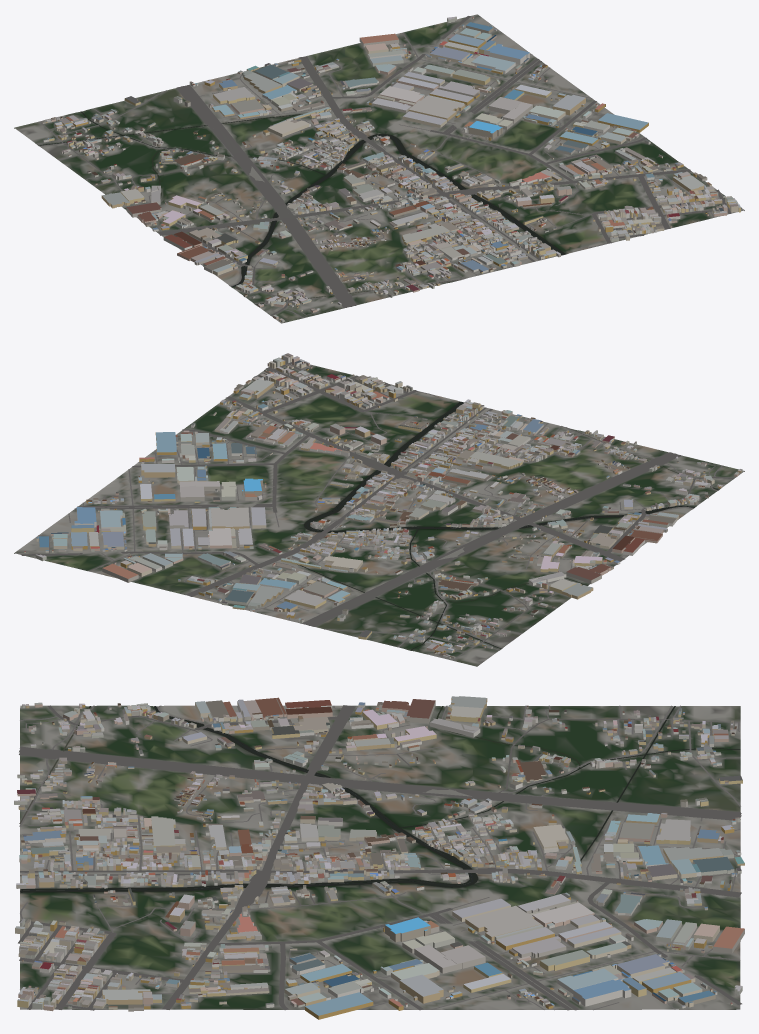
3 views of the same model, one above another, from view 1: azimuth 30°, elevation 25°; view 2: azimuth 150°, elevation 25°; view 3: azimuth 270°, elevation 25° (orthographic). The views are drawn at different scales.
Visible parts, largest first — view 1: ground, buildings, roads, water; view 2: ground, buildings, roads, water; view 3: ground, buildings, roads, water.
Part boxes in pixels (x1=…): ground: x1=14, y1=14, x2=744, y2=323; buildings: x1=41, y1=16, x2=740, y2=322; roads: x1=36, y1=16, x2=741, y2=317; water: x1=38, y1=111, x2=565, y2=304; ground: x1=14, y1=358, x2=744, y2=666; buildings: x1=24, y1=353, x2=742, y2=658; roads: x1=21, y1=362, x2=734, y2=660; water: x1=297, y1=401, x2=718, y2=650; ground: x1=20, y1=705, x2=740, y2=1009; buildings: x1=14, y1=696, x2=744, y2=1019; roads: x1=18, y1=705, x2=741, y2=1010; water: x1=19, y1=706, x2=740, y2=892.
Size of the model in its own units: 1473 by 22.92 by 1421.
